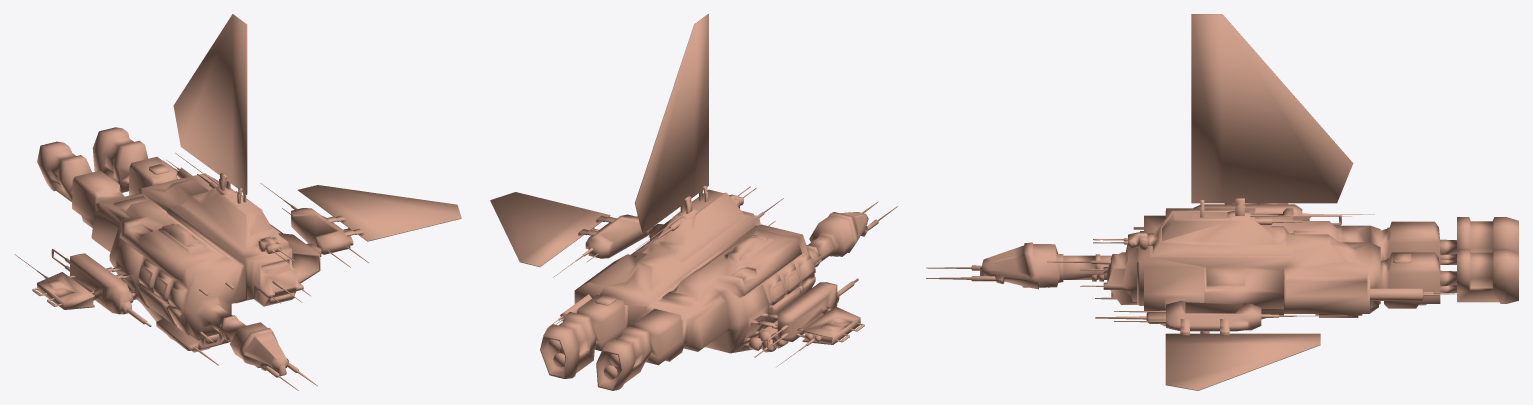
Rendered from probe.glb.
3 views of the same model, side by side, from view 1: azimuth 30°, elevation 25°; view 2: azimuth 150°, elevation 25°; view 3: azimuth 270°, elevation 25° (orthographic). The views are drawn at different scales.
Parts seen in each view (by area): view 1: probe; view 2: probe; view 3: probe.
Part boxes in pixels (x1,y1,x2,y2): probe: [14, 14, 461, 390]; probe: [490, 14, 897, 390]; probe: [926, 14, 1518, 390].
Bounding box in the file's own units: 0.8379 × 0.6365 × 1.
